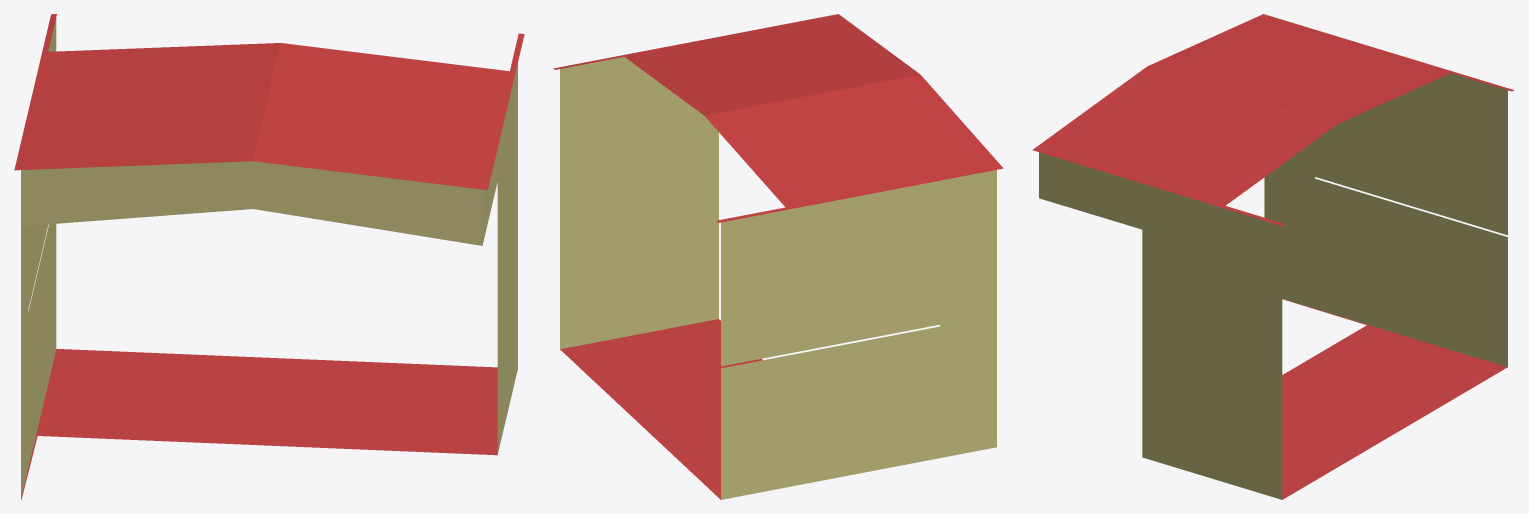
3 views of the same model, side by side, from view 1: azimuth 30°, elevation 25°; view 2: azimuth 150°, elevation 25°; view 3: azimuth 270°, elevation 25° (orthographic). The views are drawn at different scales.
Size of the model in its own units: 25.23 by 24.23 by 16.2.
